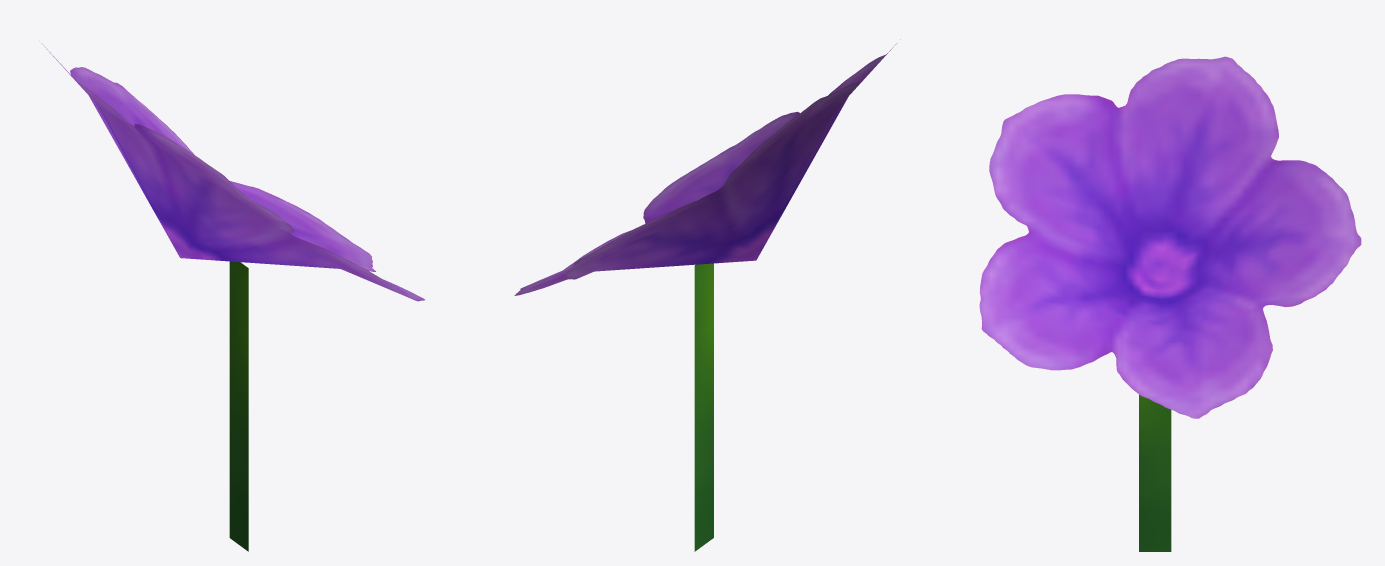
Rendered from flower_06.FBX.
The picture shows the model from 3 angles, left to right: view 1: azimuth 30°, elevation 25°; view 2: azimuth 150°, elevation 25°; view 3: azimuth 270°, elevation 25°; orthographic projection. The views are drawn at different scales.
Parts seen in each view (by area): view 1: Plane022; view 2: Plane022; view 3: Plane022.
Boxes of the visible parts, box(x1,y1,x2,y2) form: Plane022: box(41, 43, 424, 551); Plane022: box(514, 39, 900, 551); Plane022: box(979, 56, 1361, 551).
Bounding box in the file's own units: 0.4087 × 0.5592 × 0.462.
